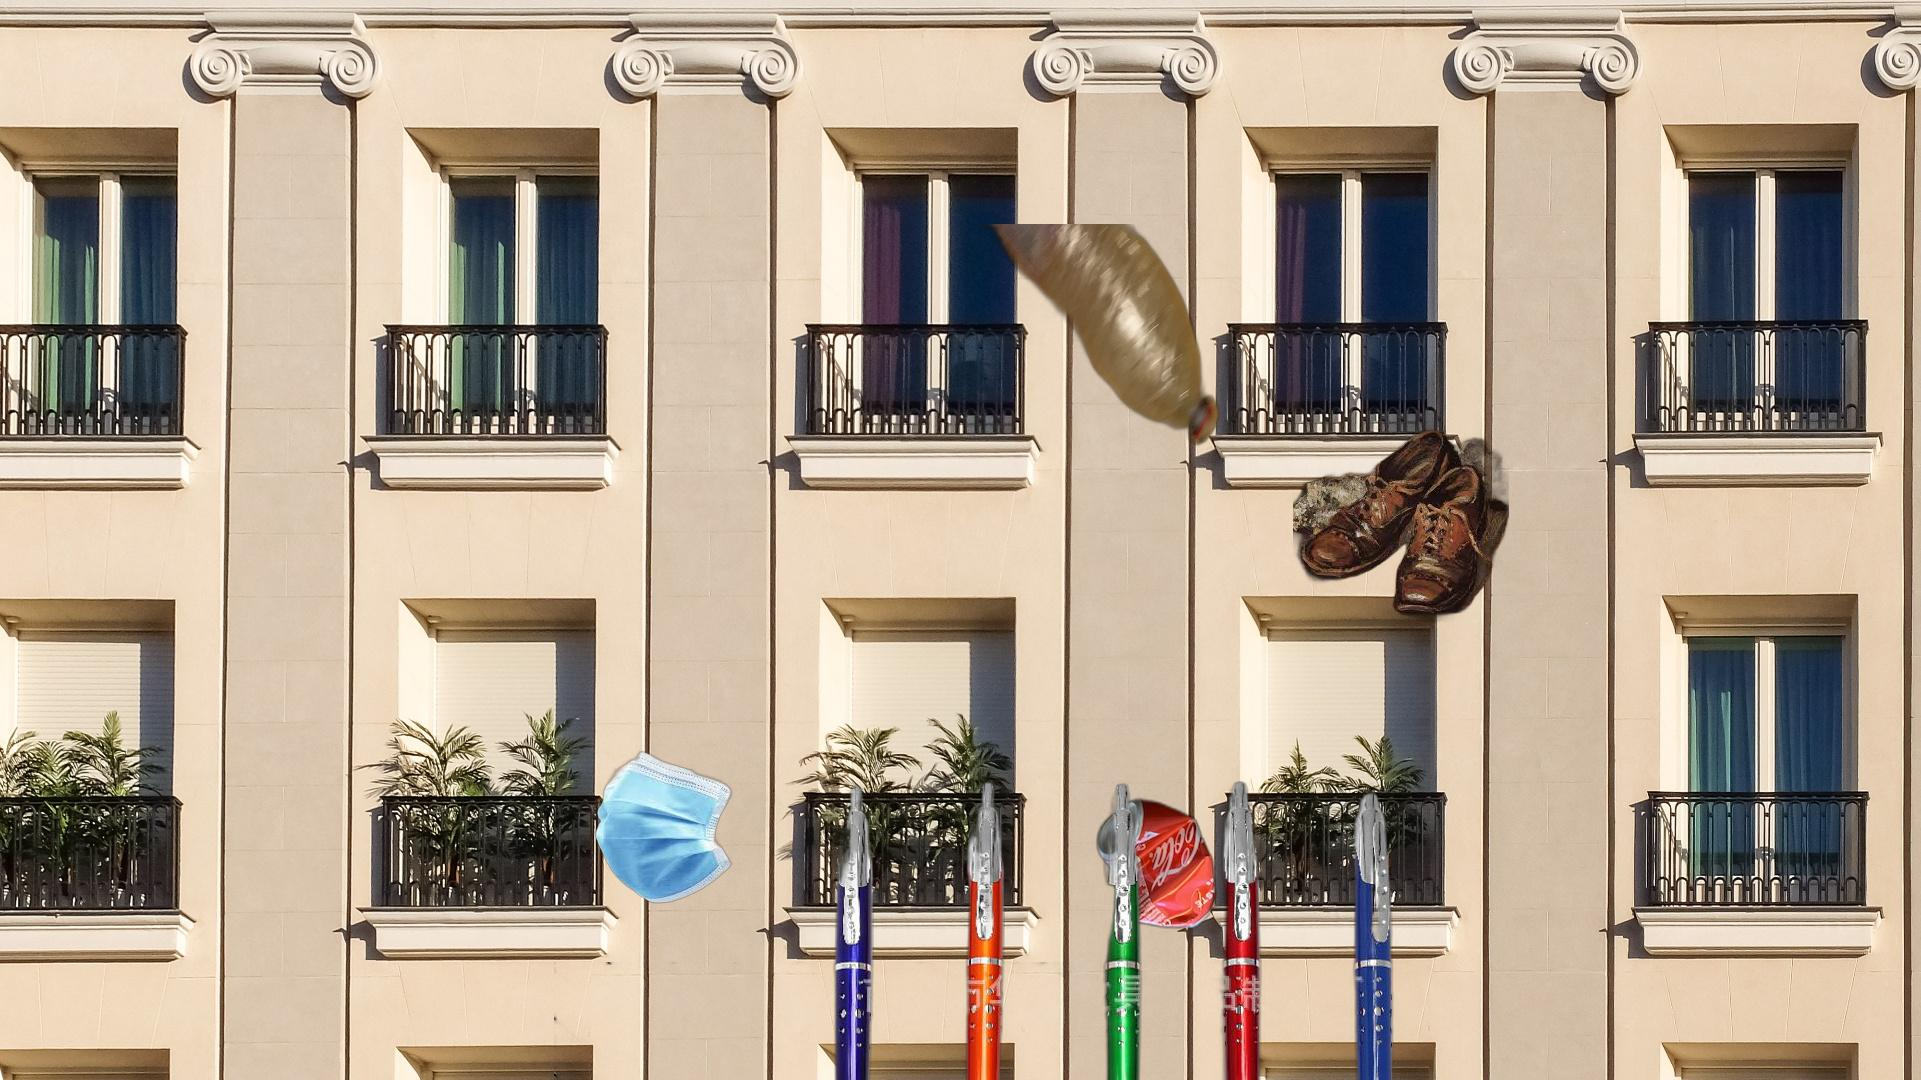glass: (554, 963, 1066, 1080)
metal-cans: (1092, 793, 1220, 935)
penholder: (813, 777, 1413, 1080)
plastic-bottles: (959, 224, 1222, 450)
shoes: (1293, 413, 1509, 632)
trash: (592, 749, 782, 906)
